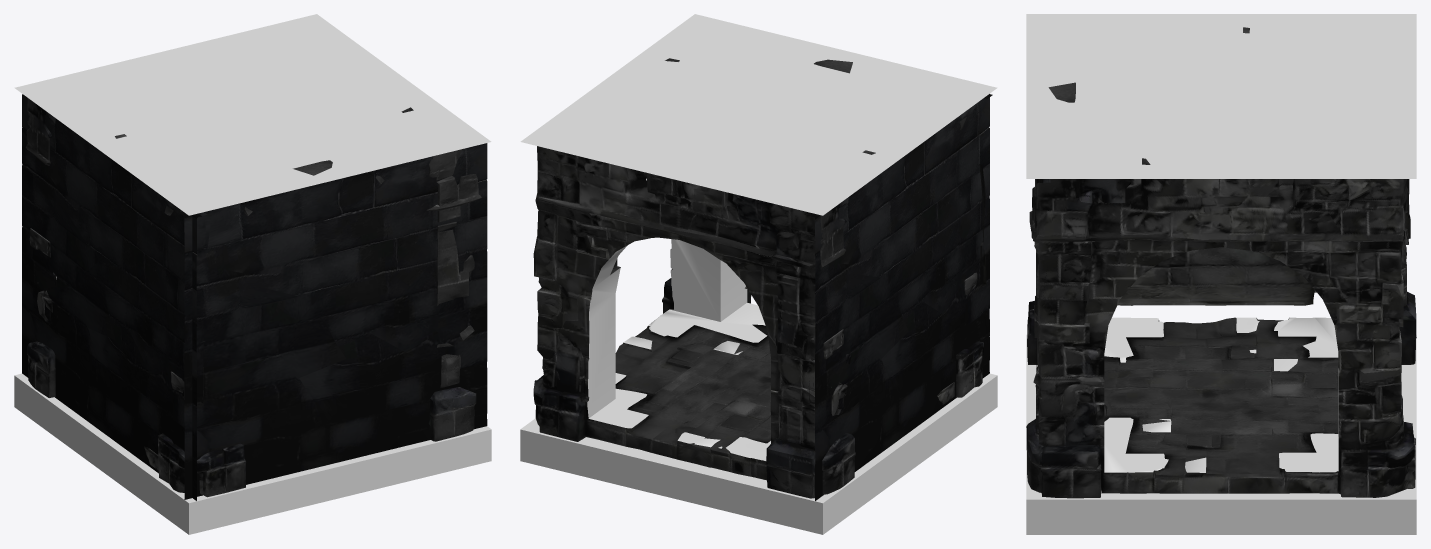
Rendered from module_corner.glb.
The picture shows the model from 3 angles, left to right: view 1: azimuth 30°, elevation 25°; view 2: azimuth 150°, elevation 25°; view 3: azimuth 270°, elevation 25°; orthographic projection. The views are drawn at different scales.
Parts seen in each view (by area): view 1: tripo_node_8c5739aa-f84c-4d8b-8e59-f022d221bb8c; view 2: tripo_node_8c5739aa-f84c-4d8b-8e59-f022d221bb8c; view 3: tripo_node_8c5739aa-f84c-4d8b-8e59-f022d221bb8c.
Boxes of the visible parts, bbox=[...] form: tripo_node_8c5739aa-f84c-4d8b-8e59-f022d221bb8c: bbox=[14, 14, 491, 534]; tripo_node_8c5739aa-f84c-4d8b-8e59-f022d221bb8c: bbox=[520, 14, 997, 534]; tripo_node_8c5739aa-f84c-4d8b-8e59-f022d221bb8c: bbox=[1026, 14, 1416, 534].
Size of the model in its own units: 6 by 6.06 by 6.
3 materials, 2 textured.
